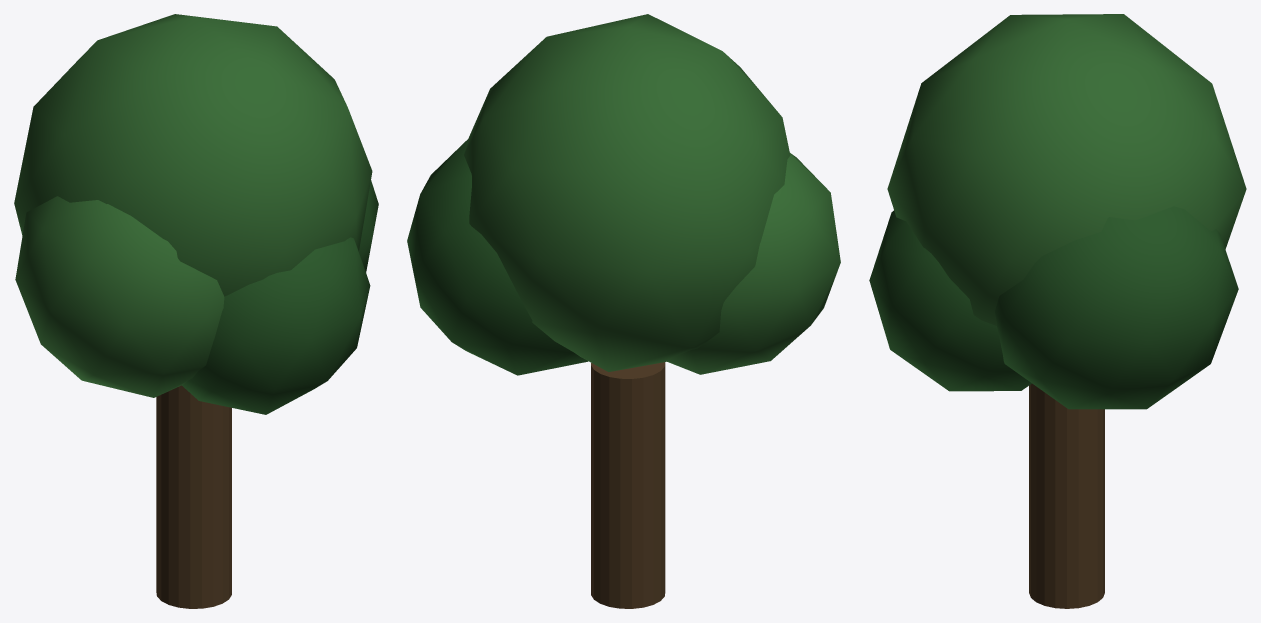
File: tree_oak_03.glb
3 renders of one model, left to right at view 1: azimuth 30°, elevation 25°; view 2: azimuth 150°, elevation 25°; view 3: azimuth 270°, elevation 25°, orthographic.
Parts seen in each view (by area): view 1: Cylinder; view 2: Cylinder; view 3: Cylinder.
Boxes of the visible parts, box(x1,y1,x2,y2) form: Cylinder: box(14, 14, 378, 608); Cylinder: box(407, 14, 840, 608); Cylinder: box(869, 14, 1246, 608).
Bounding box in the file's own units: 0.9944 × 1.5 × 0.8944.
